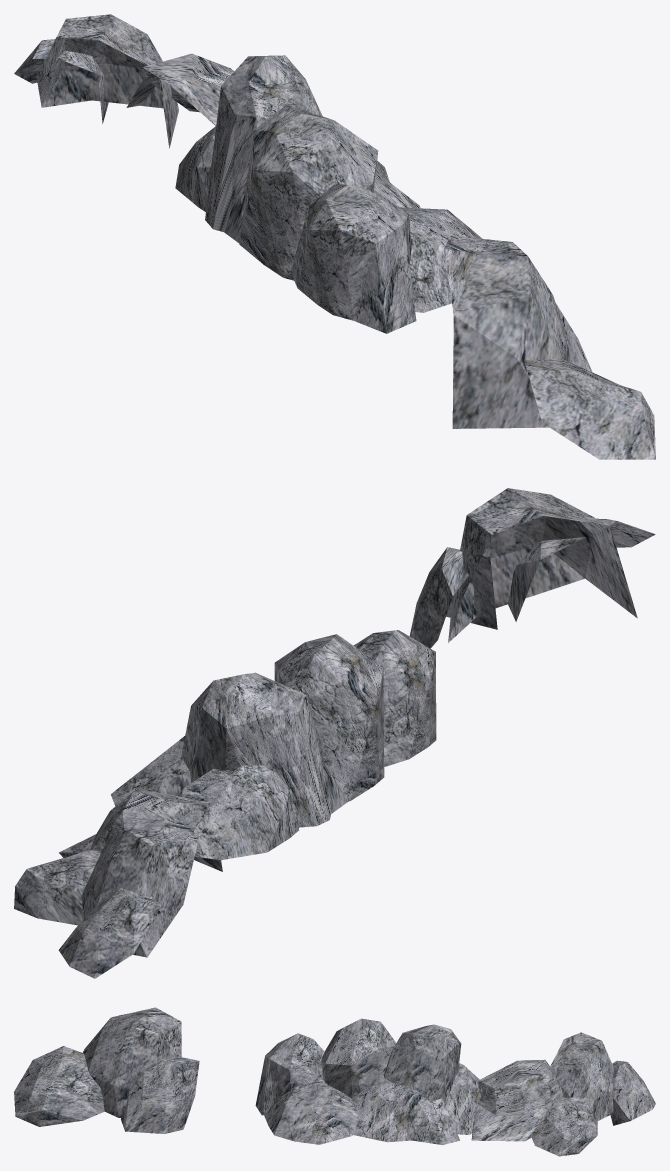
File: des_rockgp2_20.obj
3 renders of one model, top to bottom at view 1: azimuth 30°, elevation 25°; view 2: azimuth 150°, elevation 25°; view 3: azimuth 270°, elevation 25°, orthographic. The views are drawn at different scales.
Parts seen in each view (by area): view 1: des_rockgp2_20; view 2: des_rockgp2_20; view 3: des_rockgp2_20.
Part boxes in pixels (box(x1,y1,x2,y2)): des_rockgp2_20: box(14, 14, 655, 459); des_rockgp2_20: box(14, 488, 655, 978); des_rockgp2_20: box(14, 1007, 655, 1156).
Size of the model in its own units: 37.71 by 27.83 by 156.
Materials: 2 (2 with a texture image).
